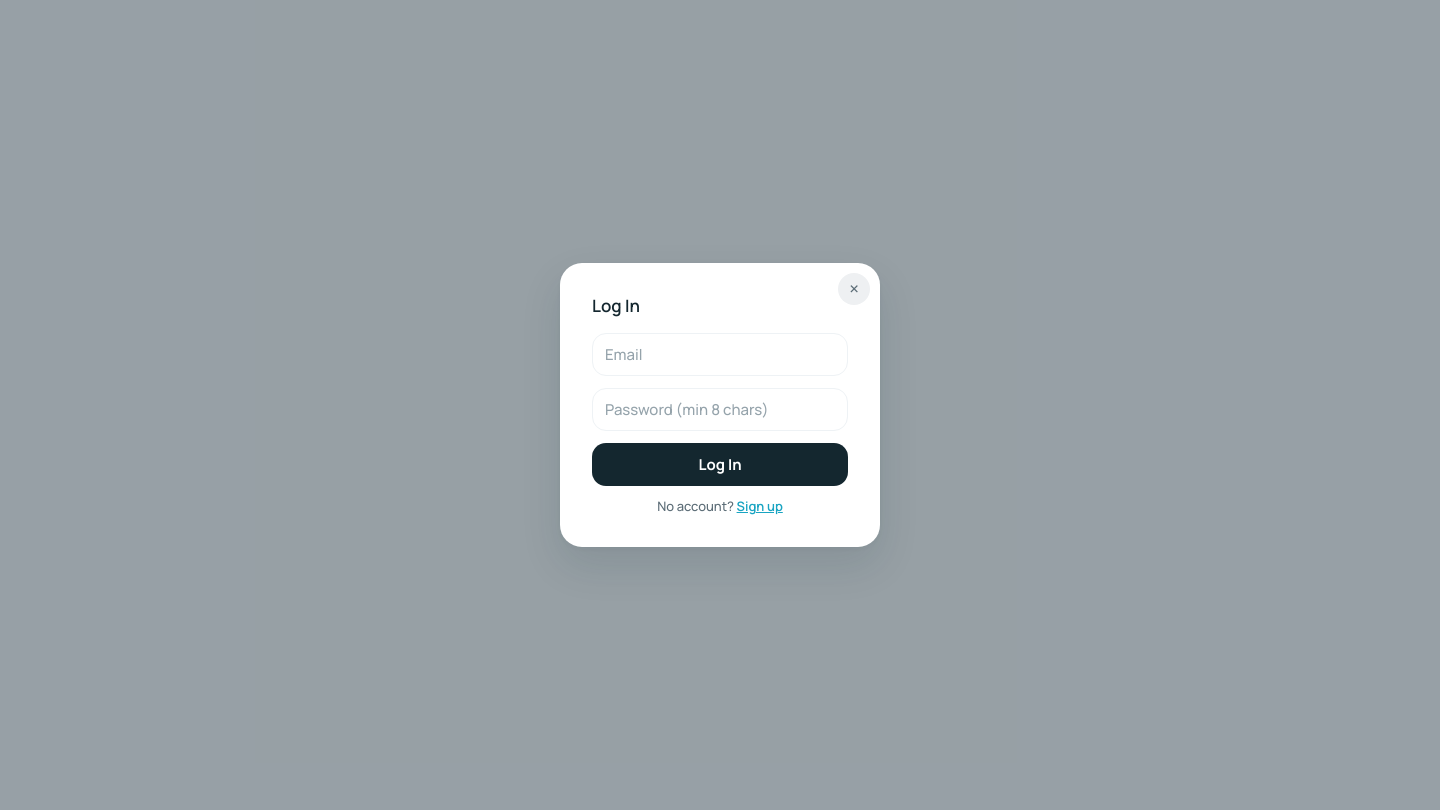
Test: AuthModal › switches to register mode and exposes the display name field
The switch link text is "Sign up" (lowercase 'up')
Step 1. Click the button "Sign up" → (760, 507), box [737, 498, 783, 515]
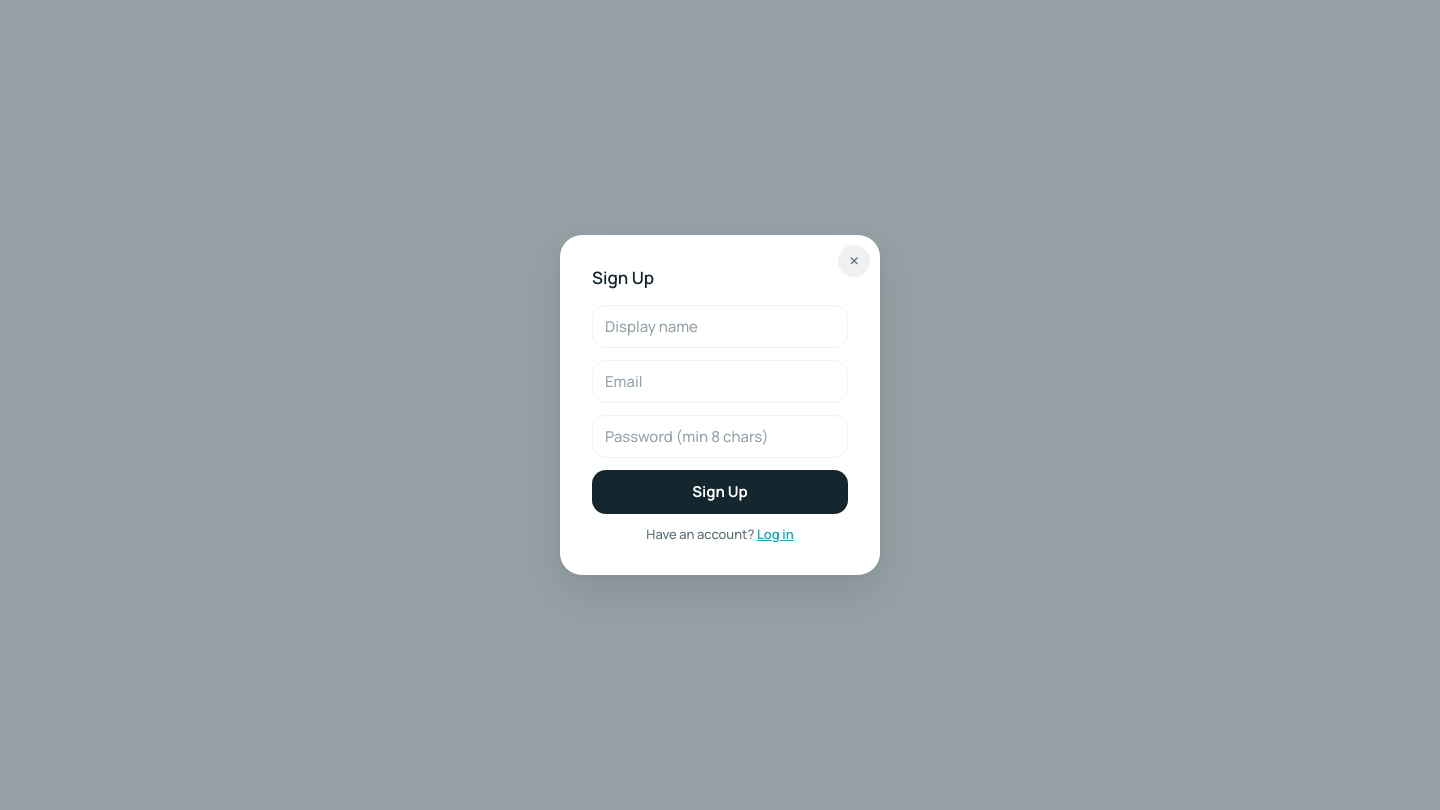
Expected: the field with placeholder "Display name" is shown, [592, 305, 848, 348]
